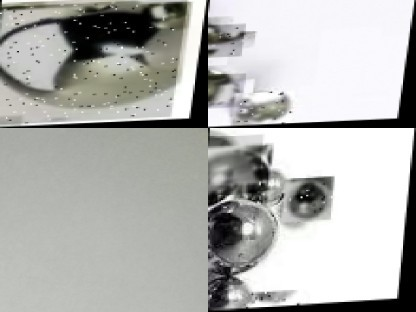ironball: (0, 0, 186, 125), (208, 190, 280, 283), (208, 134, 262, 196), (234, 163, 291, 214), (281, 178, 333, 224), (233, 91, 295, 126), (208, 275, 258, 311), (208, 73, 246, 109), (208, 24, 244, 58), (250, 291, 304, 309)
